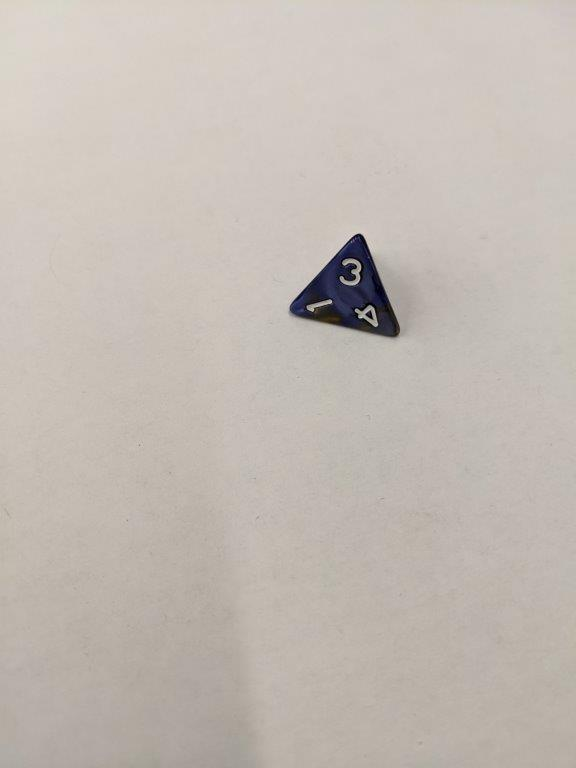d4-3: (289, 231, 406, 343)
